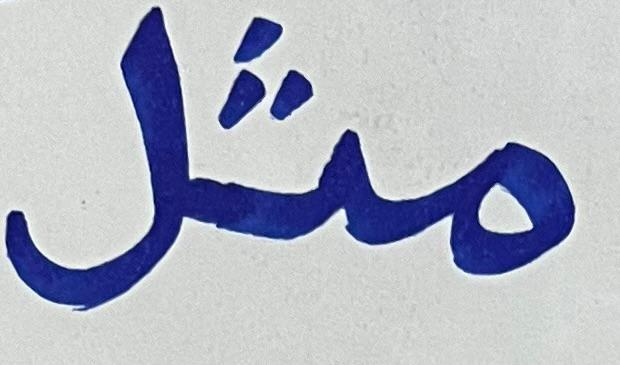lam: (9, 6, 194, 313)
meem: (383, 124, 585, 292)
theh: (205, 15, 378, 250)
